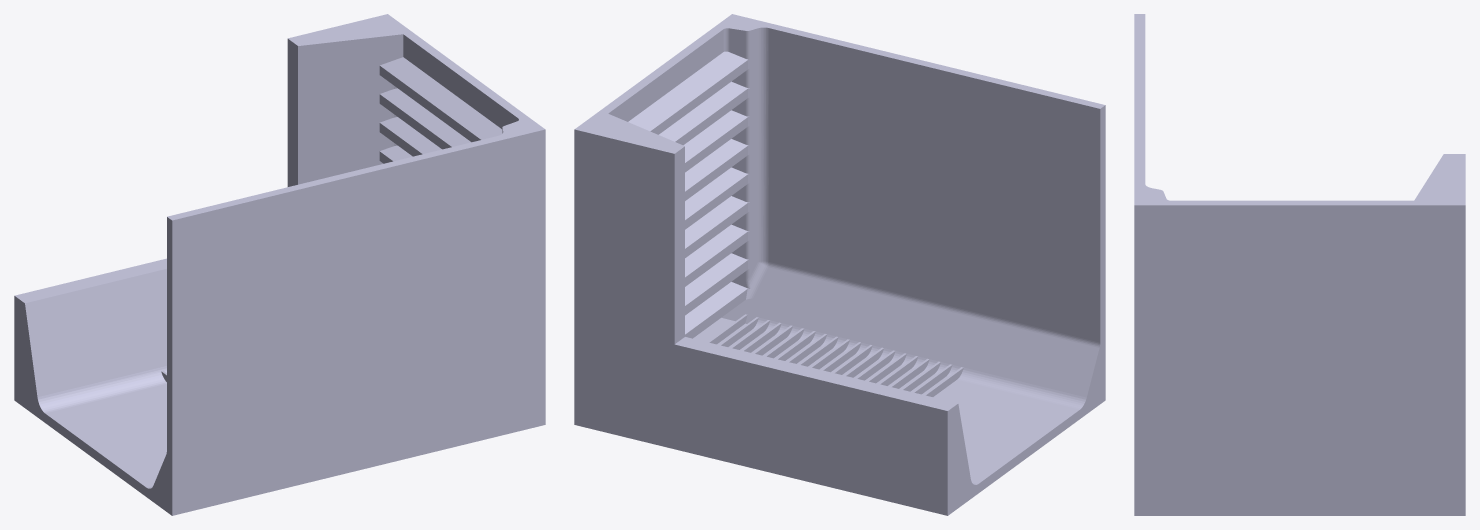
The model's file is CAD_porao.dae.
3 views of the same model, side by side, from view 1: azimuth 30°, elevation 25°; view 2: azimuth 150°, elevation 25°; view 3: azimuth 270°, elevation 25° (orthographic). The views are drawn at different scales.
Parts seen in each view (by area): view 1: node0; view 2: node0; view 3: node0.
Boxes of the visible parts, left/top/right/bottom form: node0: left=14, top=14, right=545, bottom=515; node0: left=574, top=14, right=1105, bottom=515; node0: left=1134, top=14, right=1465, bottom=515.
Bounding box in the file's own units: 41 × 30 × 31.
